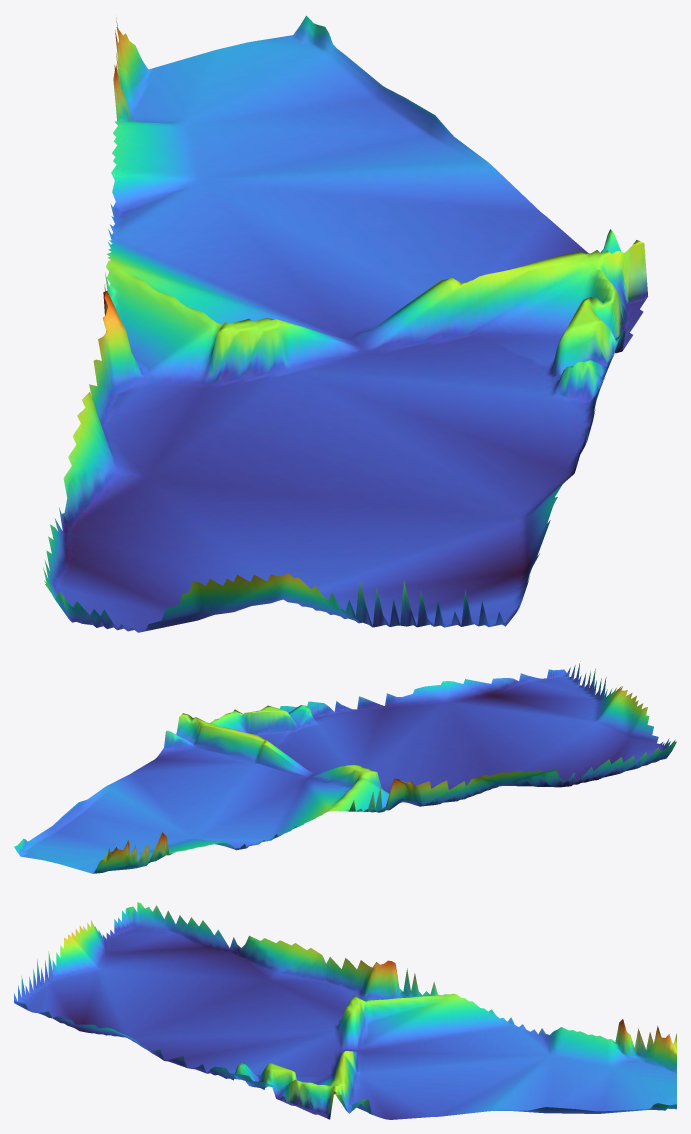
Rendered from DEM.glb.
3 renders of one model, top to bottom at view 1: azimuth 30°, elevation 25°; view 2: azimuth 150°, elevation 25°; view 3: azimuth 270°, elevation 25°, orthographic. The views are drawn at different scales.
Parts seen in each view (by area): view 1: ( ); view 2: ( ); view 3: ( ).
Part boxes in pixels (left/top/right/bottom): ( ): left=43, top=15, right=647, bottom=632; ( ): left=14, top=661, right=676, bottom=873; ( ): left=14, top=902, right=676, bottom=1119.
Size of the model in its own units: 465 by 50.15 by 666.
Materials: 1 (1 with a texture image).
